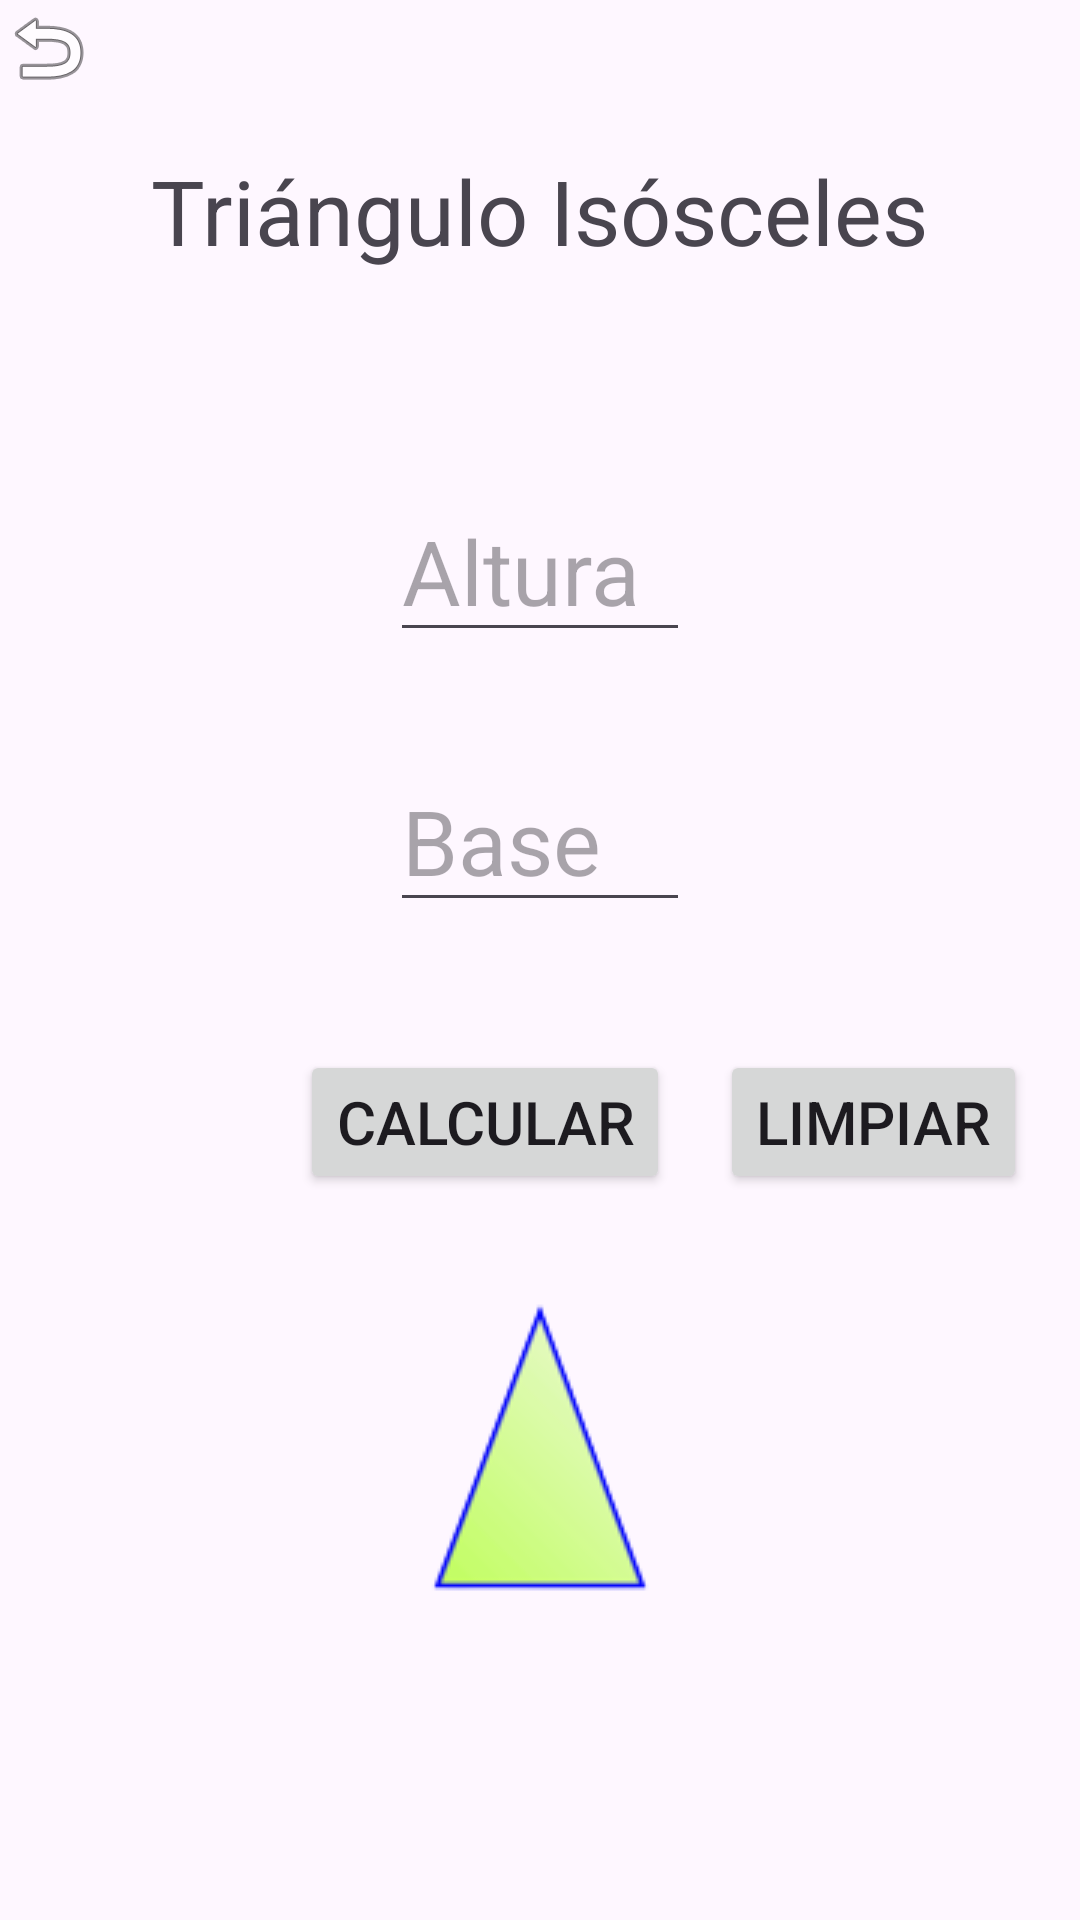

Where icons sit on this 1080*1920 app screen, as (x1, y1, x2, y2):
isosceles: (434, 1306, 646, 1590)
revert: (15, 17, 84, 80)
